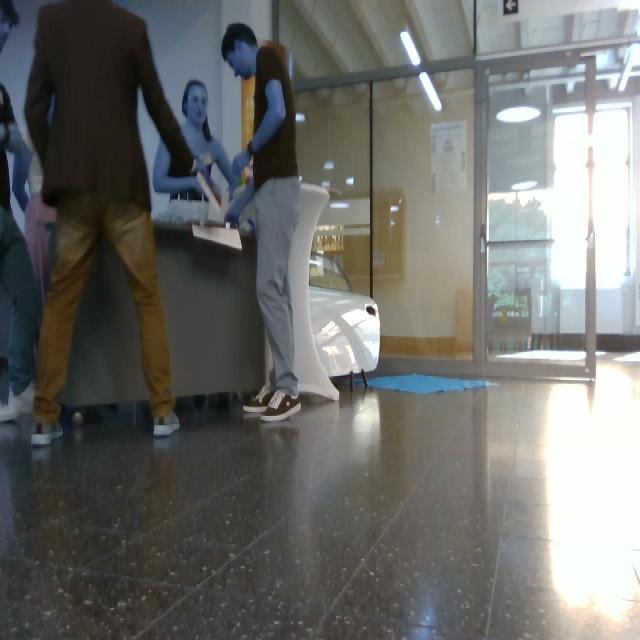desk: (155, 224, 266, 400), (62, 236, 149, 406)
door: (472, 38, 640, 381), (374, 74, 472, 358)
light bulb: (619, 44, 640, 92), (419, 72, 441, 112), (497, 106, 541, 124), (401, 30, 421, 66), (297, 113, 306, 122)
person: (26, 1, 194, 446), (222, 24, 301, 421), (1, 1, 41, 422), (154, 81, 238, 201)
table: (288, 184, 339, 400)
tiled floor: (1, 361, 640, 640)
